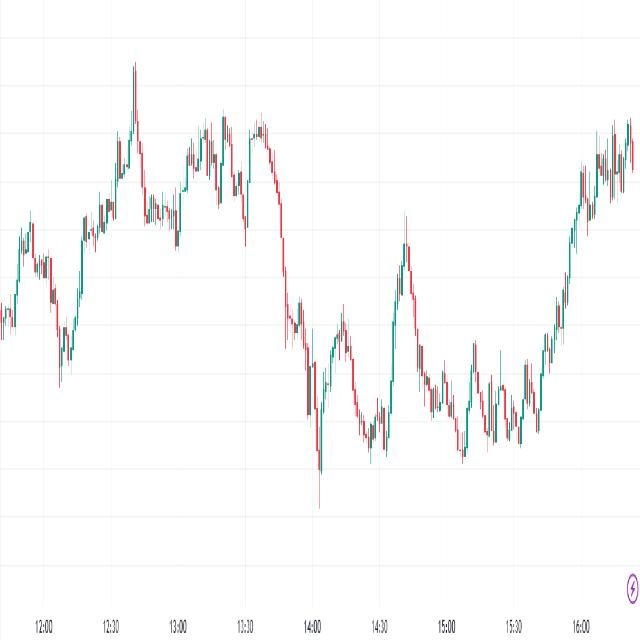Double-Bottom: (48, 299, 82, 389)
Head-Shoulders: (74, 52, 181, 264)
